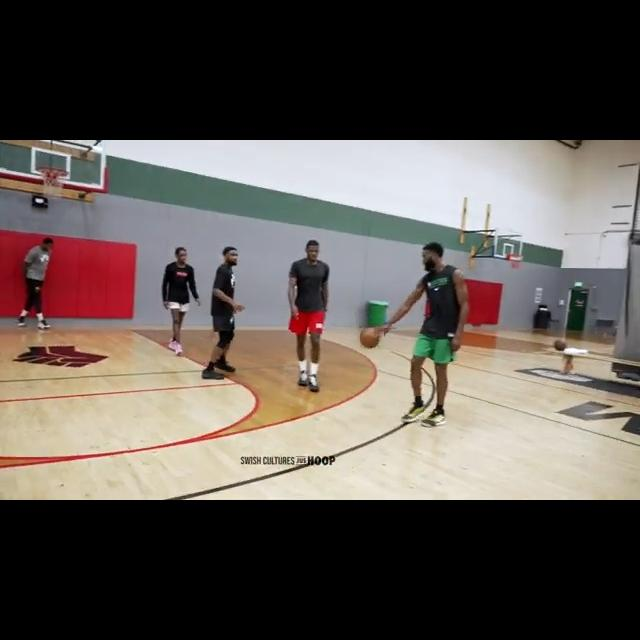basketball: (359, 328, 383, 351)
hoop: (37, 168, 69, 199), (509, 252, 524, 271)
person: (404, 244, 474, 428), (289, 240, 332, 395), (201, 245, 247, 381), (163, 237, 201, 355), (14, 237, 56, 334)
